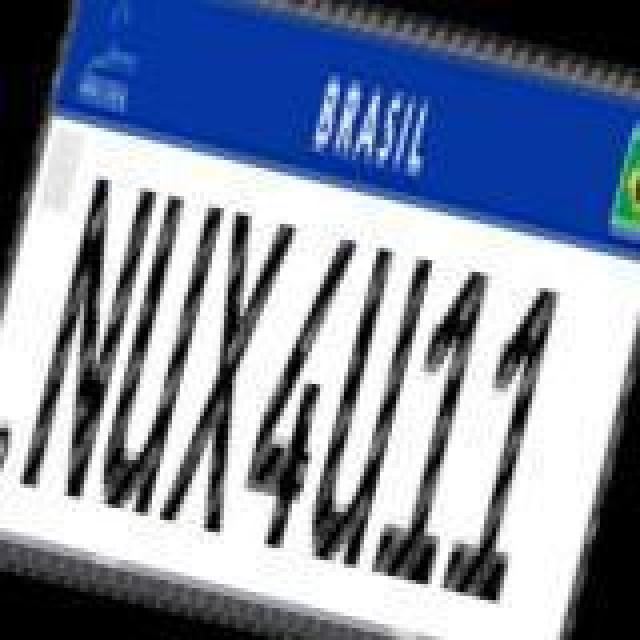1: (368, 252, 512, 596), (440, 272, 584, 608)
4: (226, 216, 366, 552)
N: (14, 164, 162, 508)
U: (296, 238, 440, 578), (90, 184, 230, 520)
X: (152, 202, 296, 542)
